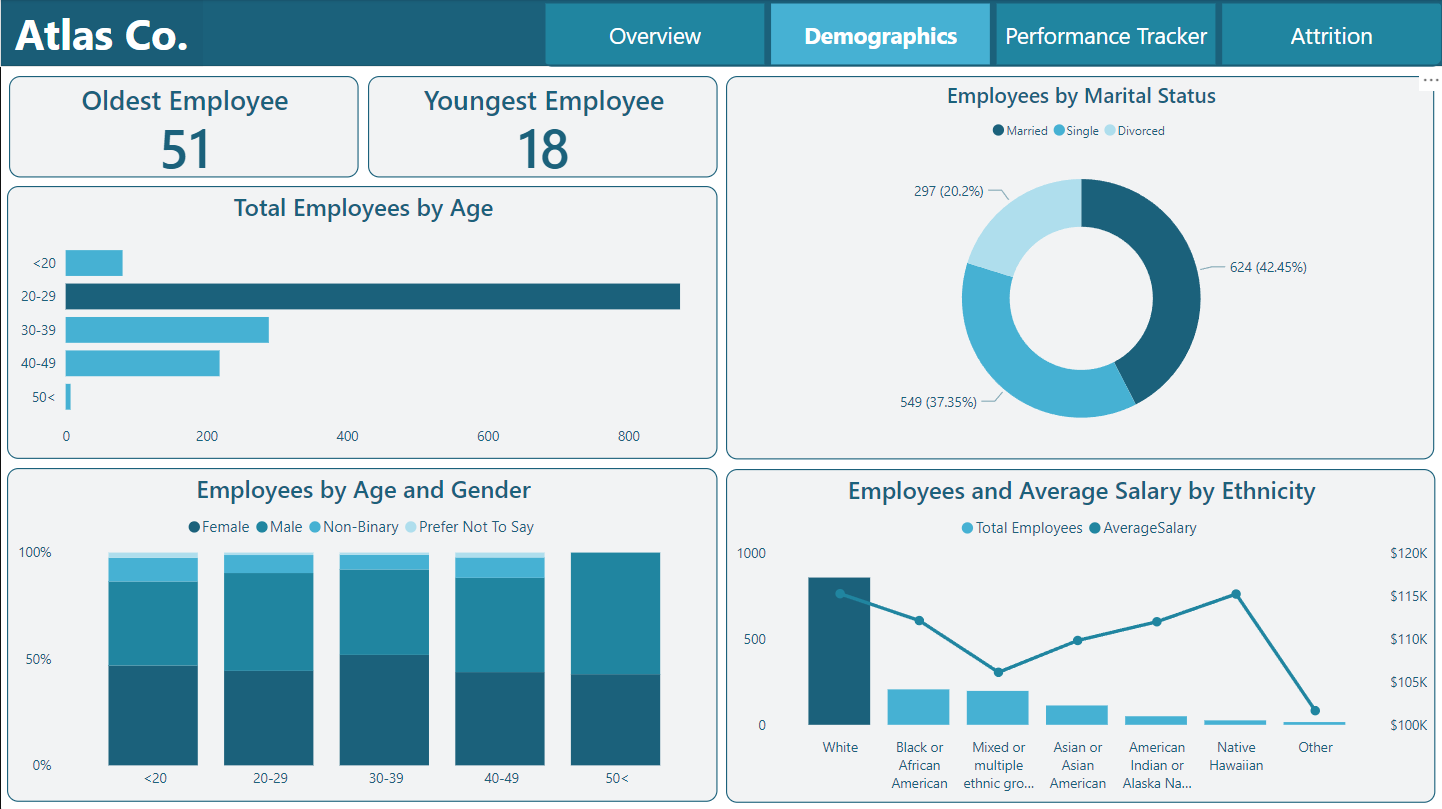

The dashboard page shown, as its layout file describes it:
{"tool":"powerbi","page":{"name":"Demographics","canvas":[1280,720],"ordinal":1},"visuals":[{"type":"card","title":"Oldest Employee","fields":{"Values":["Max(DimEmployee.Age)"]},"box":[8,68,310,90],"z":0},{"type":"card","title":"Youngest Employee","fields":{"Values":["Min(DimEmployee.Age)"]},"box":[326,68,310,90],"z":1000},{"type":"clusteredBarChart","title":"Total Employees by Age","fields":{"Category":["DimEmployee.AgeBins"],"Y":["_Measures.TotalEmployees"]},"box":[6,166,630,242],"z":2000},{"type":"hundredPercentStackedColumnChart","title":"Employees by Age and Gender","fields":{"Category":["DimEmployee.AgeBins"],"Y":["_Measures.TotalEmployeesDate"],"Series":["DimEmployee.Gender"]},"box":[6,416,630,296],"z":3000},{"type":"donutChart","title":"Employees by Marital Status","fields":{"Category":["DimEmployee.MaritalStatus"],"Y":["_Measures.TotalEmployees"]},"box":[644,68,628,340],"z":4000},{"type":"lineStackedColumnComboChart","title":"Employees and Average Salary by Ethnicity","fields":{"Category":["DimEmployee.Ethnicity"],"Y":["_Measures.TotalEmployees"],"Y2":["_Measures.AverageSalary"]},"box":[643.7,416.7,628.7,296.2],"z":5000},{"type":"shape","box":[0,0,1280,60],"z":6000},{"type":"pageNavigator","box":[480,0,800,60],"z":7000},{"type":"textbox","box":[0,0,180,60],"z":8000}]}

Visuals, with their boxes in screenshot pixels (x1, y1, x2, y2), scaled from the page's 1280x720 canvas onto the 1442x809 screenshot:
"Oldest Employee" card: <bbox>9, 76, 358, 178</bbox>
"Youngest Employee" card: <bbox>367, 76, 716, 178</bbox>
"Total Employees by Age" clusteredBarChart: <bbox>7, 187, 716, 458</bbox>
"Employees by Age and Gender" hundredPercentStackedColumnChart: <bbox>7, 467, 716, 800</bbox>
"Employees by Marital Status" donutChart: <bbox>726, 76, 1433, 458</bbox>
"Employees and Average Salary by Ethnicity" lineStackedColumnComboChart: <bbox>725, 468, 1433, 801</bbox>
shape: <bbox>0, 0, 1441, 67</bbox>
pageNavigator: <bbox>541, 0, 1441, 67</bbox>
textbox: <bbox>0, 0, 203, 67</bbox>
